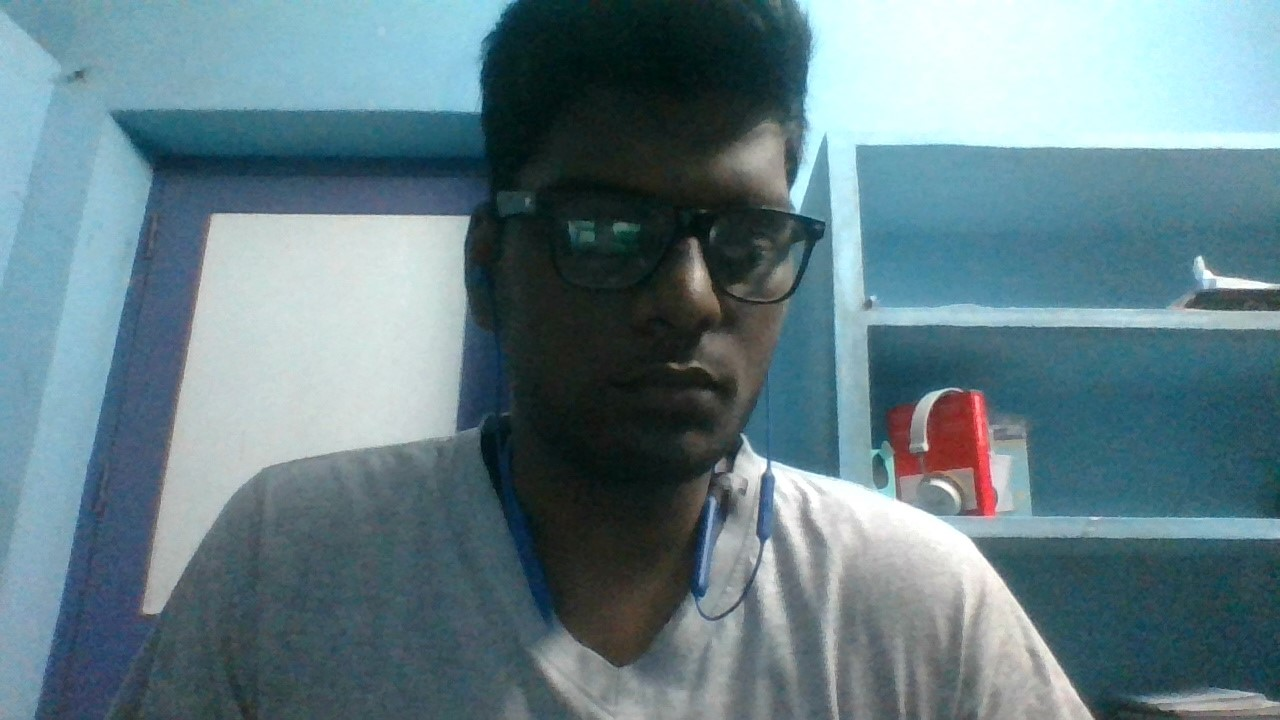person: (123, 1, 1104, 720)
